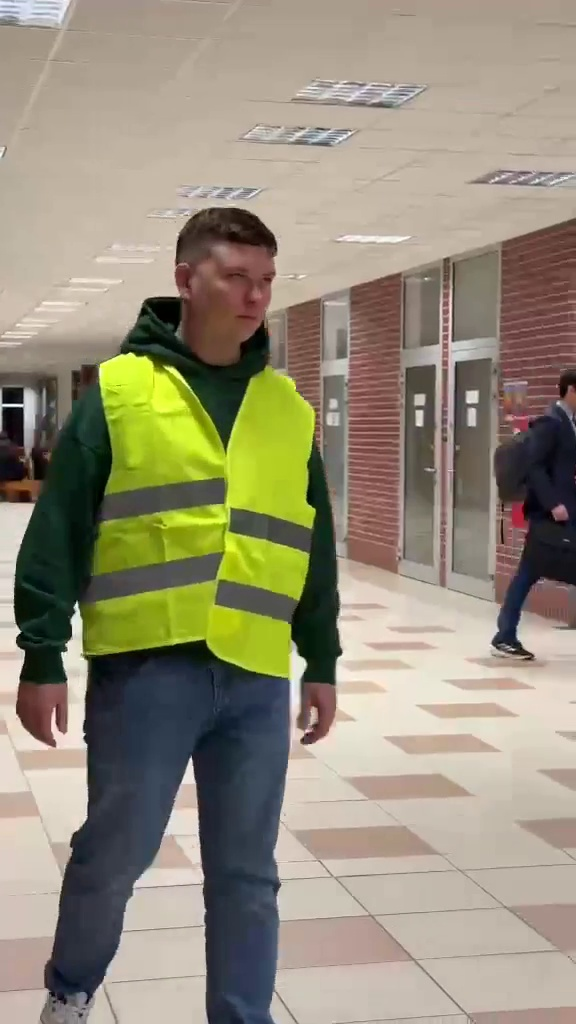no vest: (489, 355, 576, 674)
vest: (10, 213, 312, 996)
